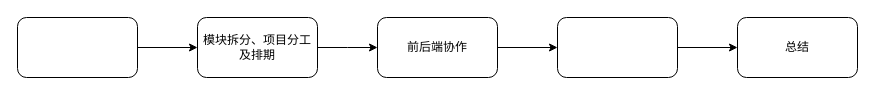
The diagram is 875 pixels wide and 95 high, and some of its shapes have lost their labels. Each missing label, with the centre of its shape:
前端、设计、产品协作: the point at 77,47
编码: the point at 617,47
